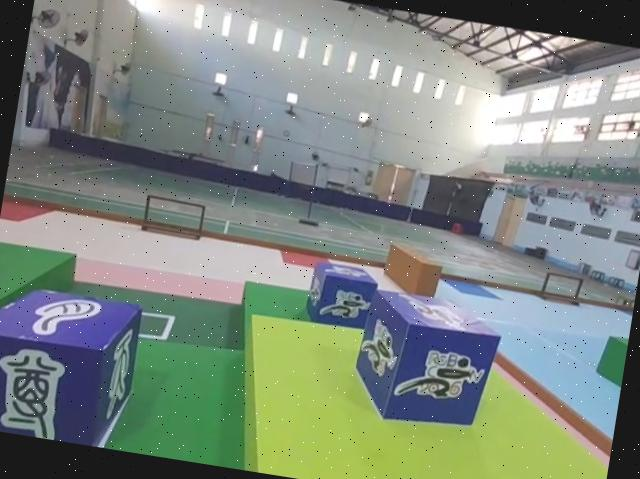R1 Blue: (347, 288, 505, 439), (305, 259, 382, 332)
R2 Fake Blue: (0, 275, 144, 450)
